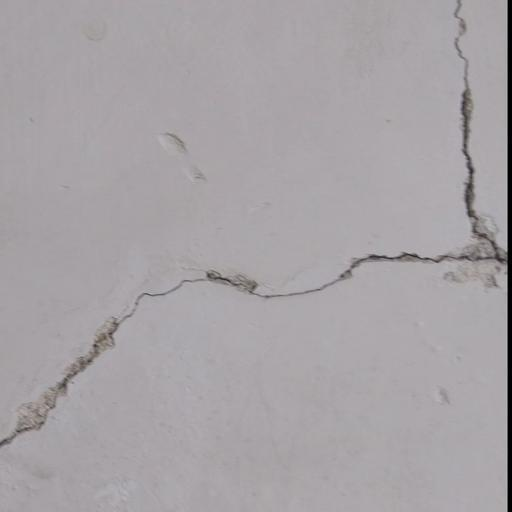major_crack: (34, 0, 509, 497)
